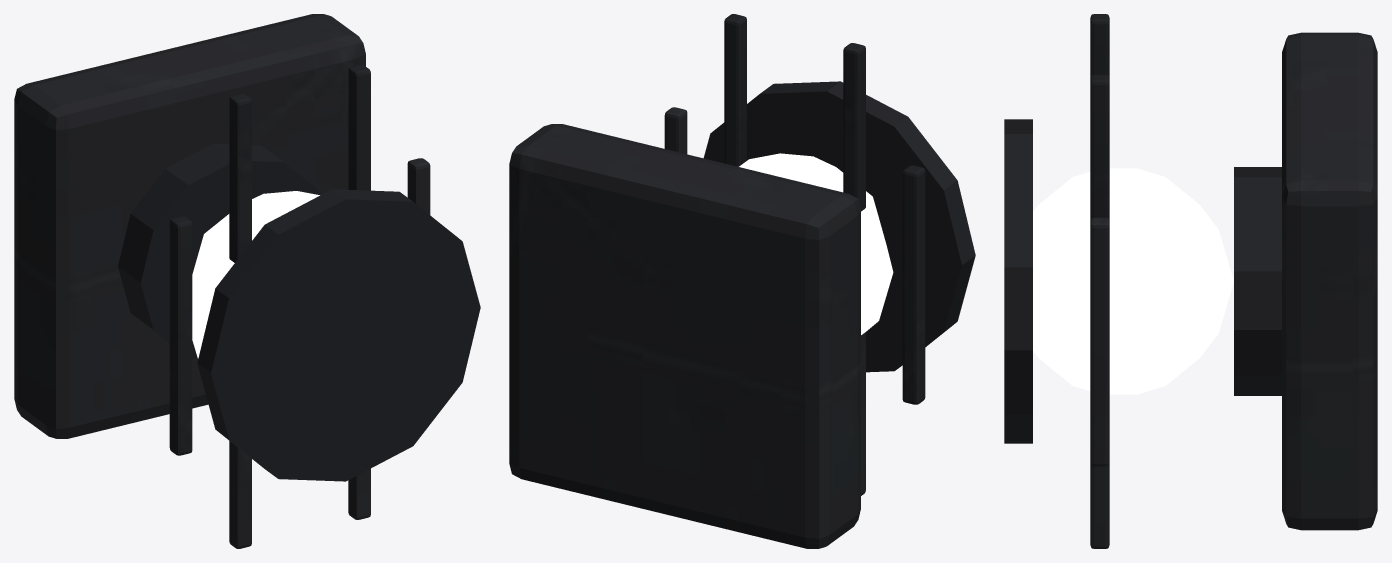
File: lamp_caged.glb
The picture shows the model from 3 angles, left to right: view 1: azimuth 30°, elevation 25°; view 2: azimuth 150°, elevation 25°; view 3: azimuth 270°, elevation 25°; orthographic projection. The views are drawn at different scales.
Parts seen in each view (by area): view 1: body; view 2: body; view 3: body.
Boxes of the visible parts, bbox=[...] form: body: bbox=[14, 14, 480, 548]; body: bbox=[509, 14, 975, 548]; body: bbox=[1004, 14, 1377, 548].
Size of the model in its own units: 0.2 by 0.2699 by 0.195.
2 materials, 1 textured.
